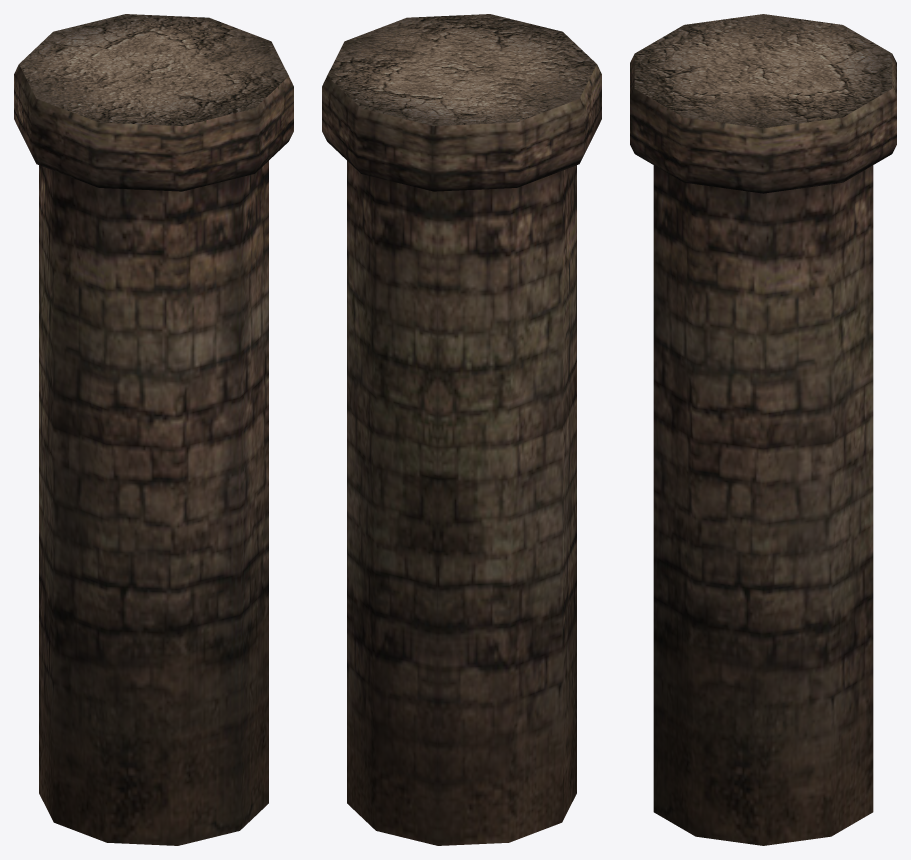
Rendered from wall04.fbx.
The picture shows the model from 3 angles, left to right: view 1: azimuth 30°, elevation 25°; view 2: azimuth 150°, elevation 25°; view 3: azimuth 270°, elevation 25°; orthographic projection.
Parts seen in each view (by area): view 1: wall04; view 2: wall04; view 3: wall04.
Boxes of the visible parts, x1,y1,x2,y2 form: wall04: (14,14,293,845); wall04: (322,14,601,845); wall04: (630,14,896,845).
Bounding box in the file's own units: 317 × 905 × 301.
